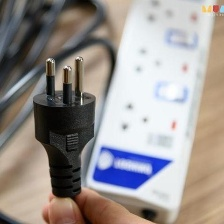three_eye_plug: (78, 0, 221, 224)
